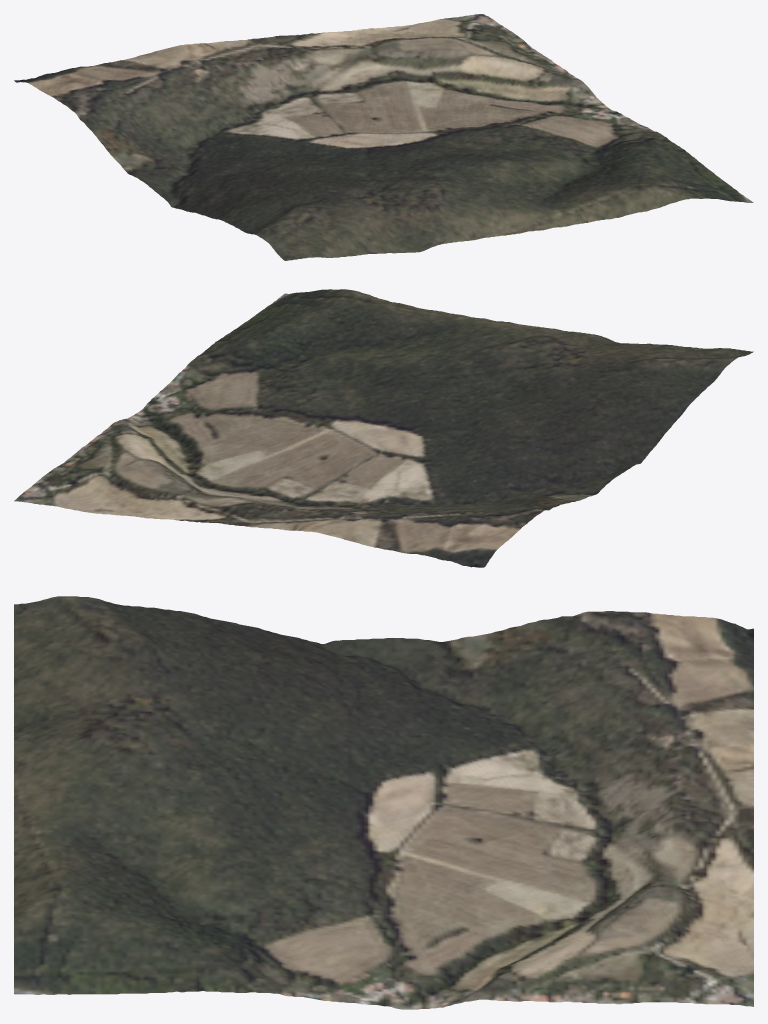
File: tile_2_3.glb
3 renders of one model, top to bottom at view 1: azimuth 30°, elevation 25°; view 2: azimuth 150°, elevation 25°; view 3: azimuth 270°, elevation 25°, orthographic. The views are drawn at different scales.
Parts seen in each view (by area): view 1: tile_2_3; view 2: tile_2_3; view 3: tile_2_3.
Part boxes in pixels (x1,y1,x2,y2): tile_2_3: (14,14,753,260); tile_2_3: (14,289,753,567); tile_2_3: (14,596,753,1009).
Size of the model in its own units: 1000 by 150 by 1000.
Materials: 1 (1 with a texture image).
